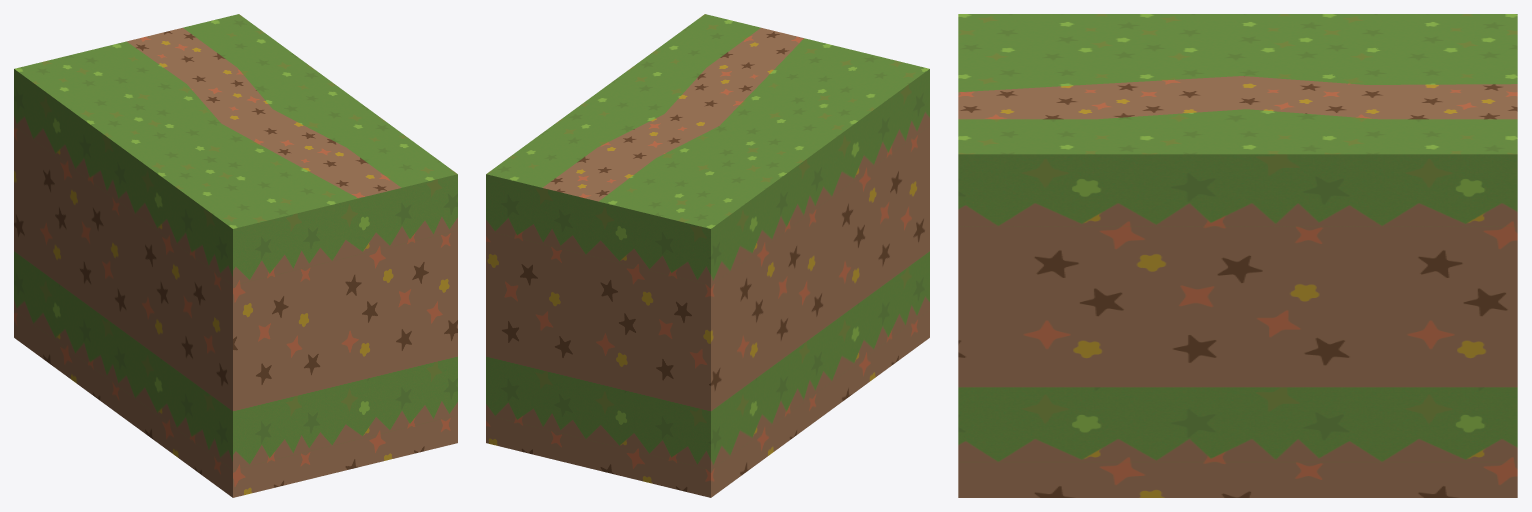
Rendered from separated town higher area secondfbx.fbx.
3 renders of one model, left to right at view 1: azimuth 30°, elevation 25°; view 2: azimuth 150°, elevation 25°; view 3: azimuth 270°, elevation 25°, orthographic. The views are drawn at different scales.
Parts seen in each view (by area): view 1: Cube.055; view 2: Cube.055; view 3: Cube.055.
Boxes of the visible parts, <box> form: Cube.055: <box>14,14,457,497</box>; Cube.055: <box>486,14,929,497</box>; Cube.055: <box>958,14,1517,497</box>.
Bounding box in the file's own units: 4811 × 5498 × 8110.
